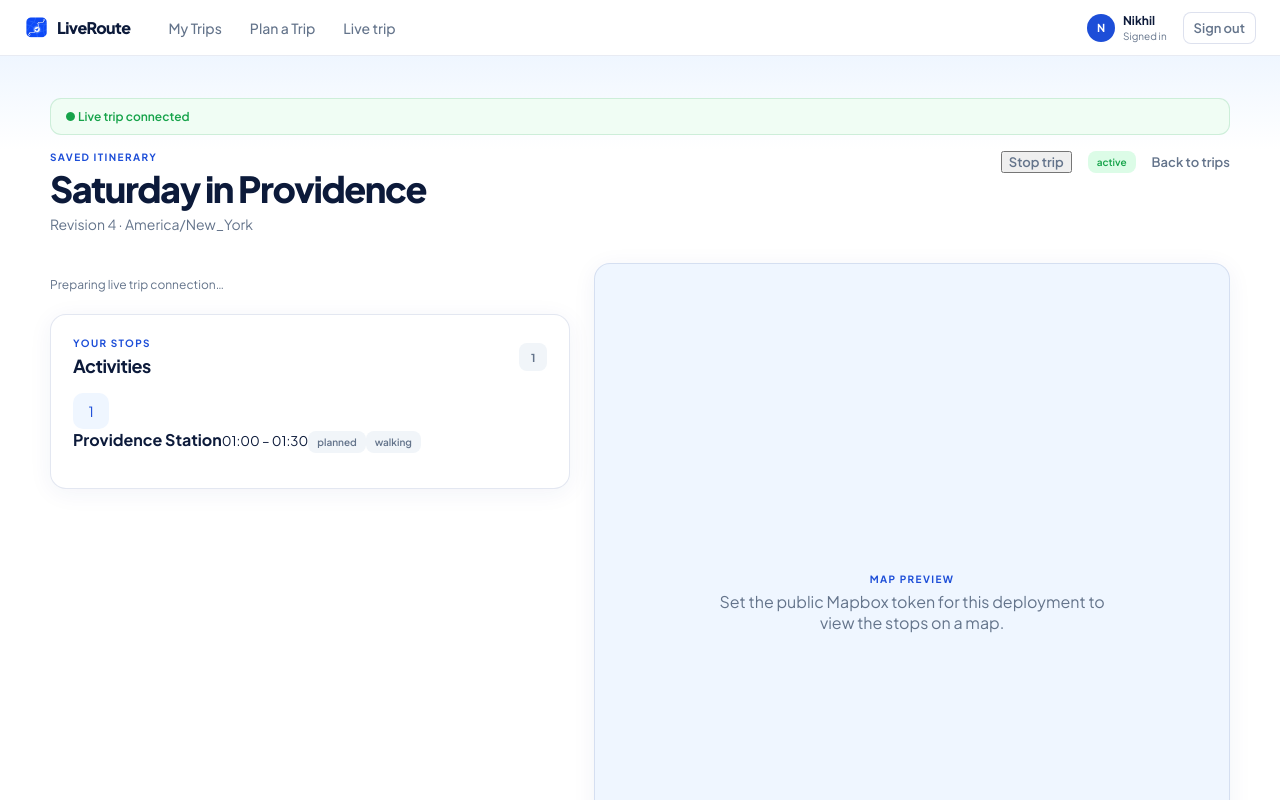
Test case: App session restoration › stops an active trip and returns it to the saved state
Click the button "Stop trip" at (1036, 162), box [1001, 151, 1072, 173]
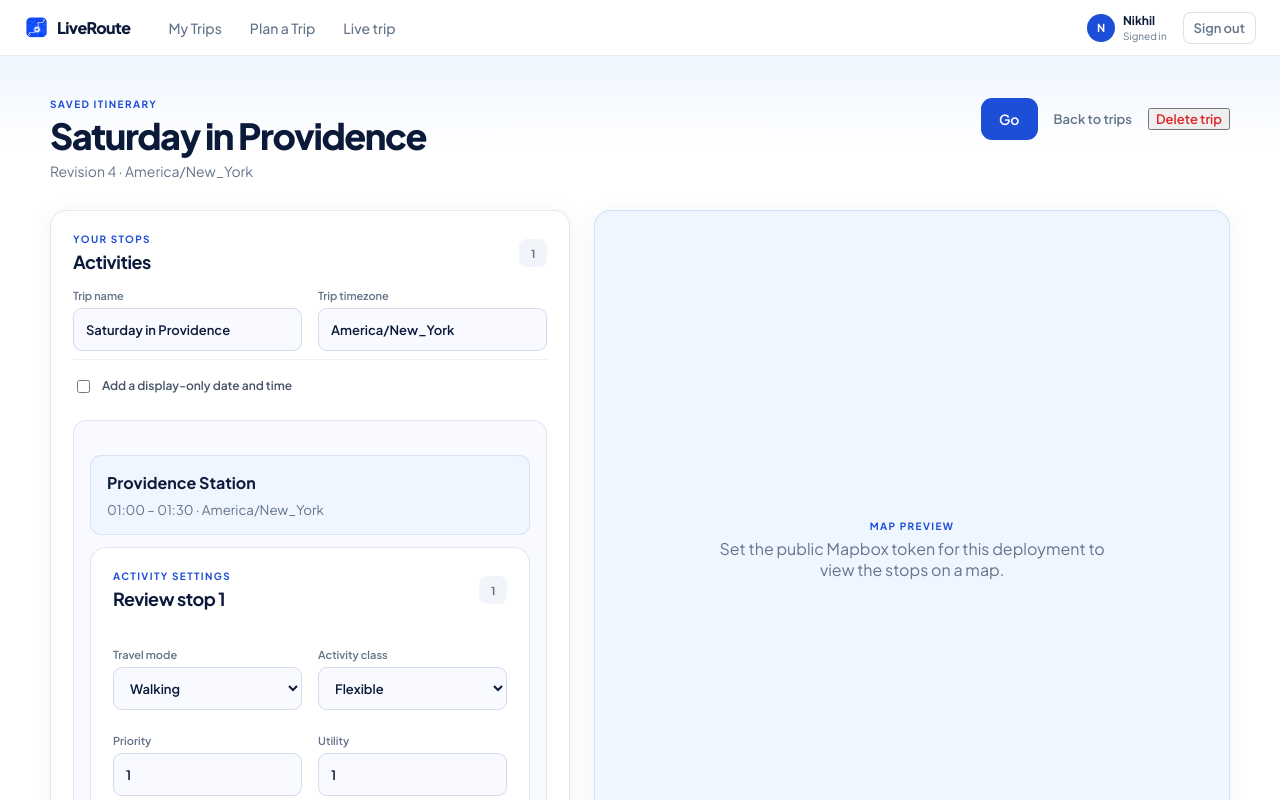
Now the button "Go" is shown, box [981, 98, 1038, 140]
